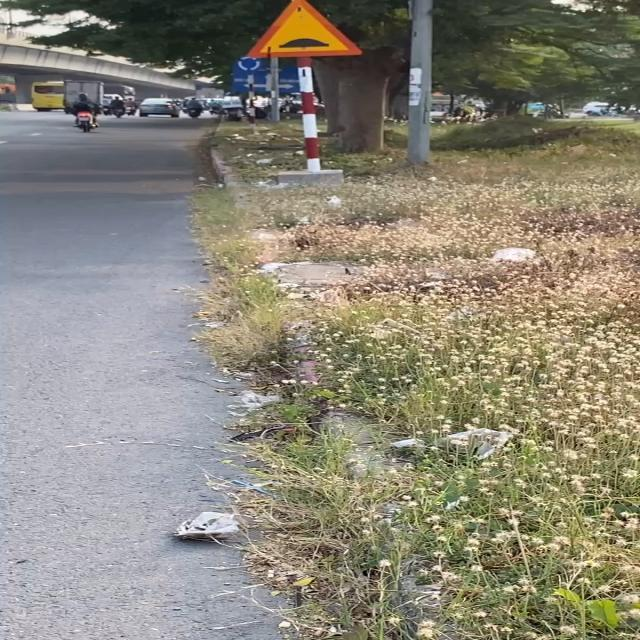221-duong-go-ghe: (245, 0, 361, 60)
303-noi-giao-nhau-chay-theo-vong-xuyen: (234, 54, 262, 74)
